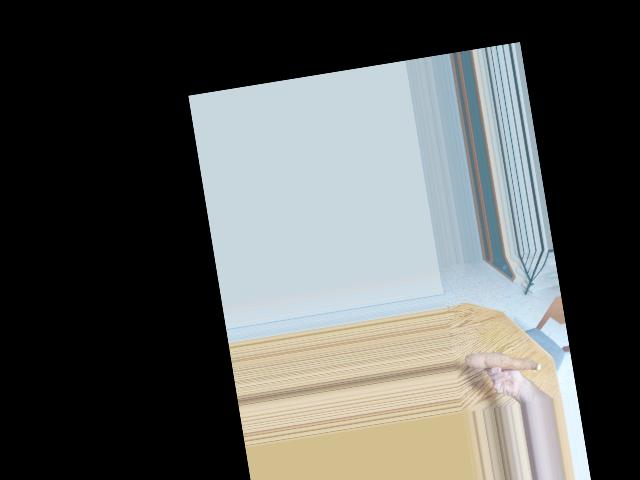sweet_potato: (465, 339, 541, 385)
